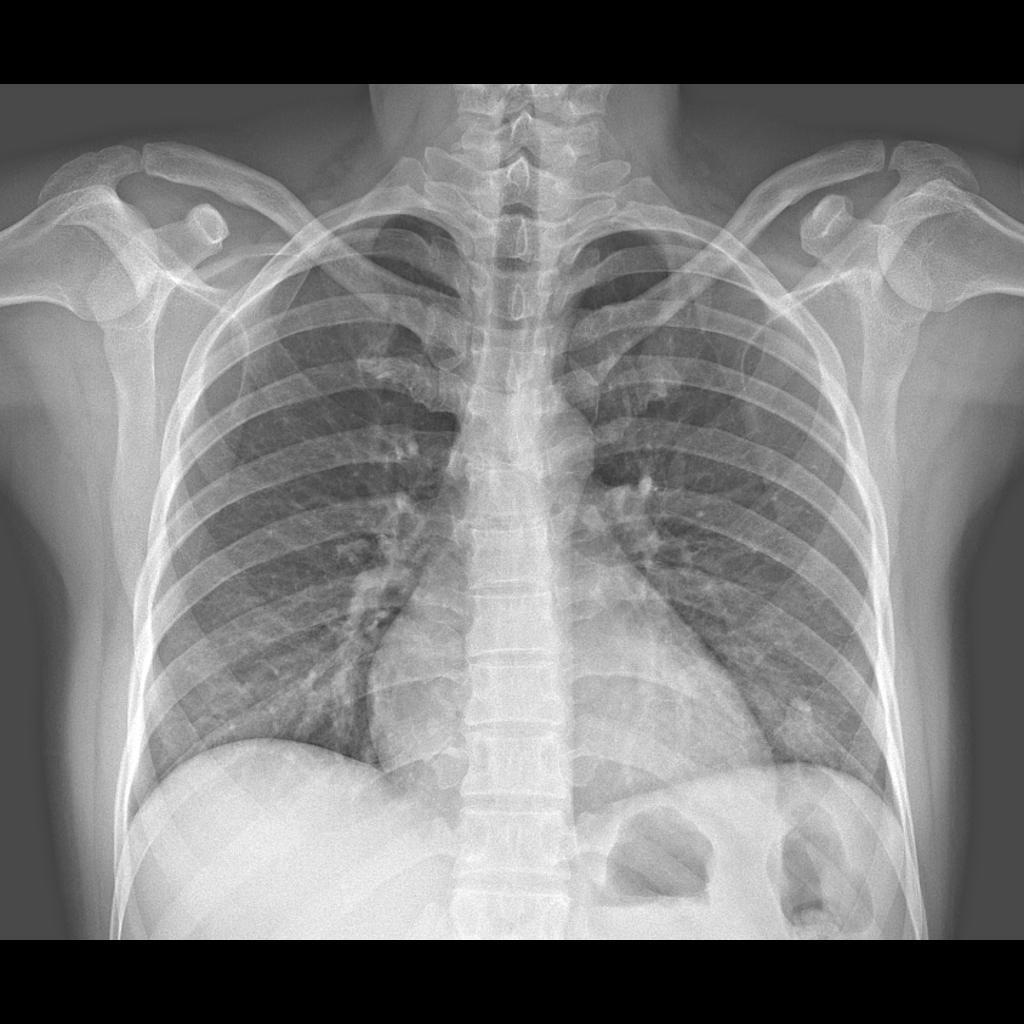Nodule: (770, 687, 850, 771)
